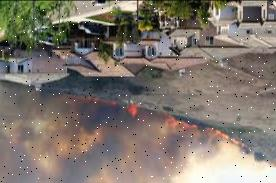fire: (64, 87, 142, 133), (165, 109, 211, 162)
